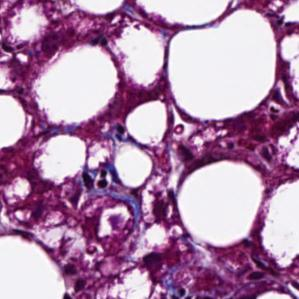inflammation: (78, 168, 120, 196)
